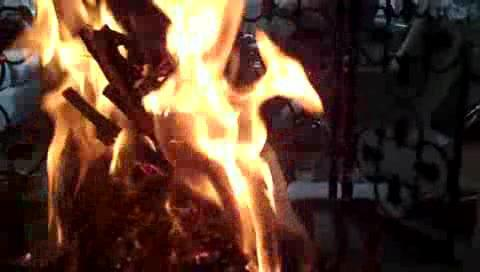fire: (24, 0, 400, 270)
